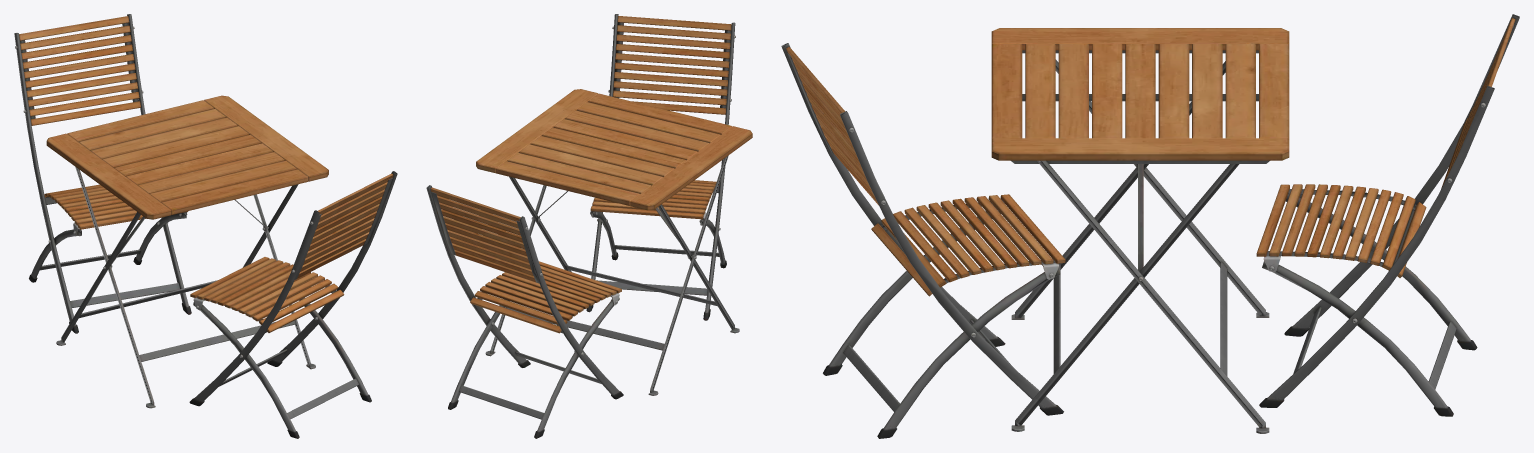
Rendered from cafe_set.glb.
3 views of the same model, side by side, from view 1: azimuth 30°, elevation 25°; view 2: azimuth 150°, elevation 25°; view 3: azimuth 270°, elevation 25° (orthographic). The views are drawn at different scales.
Parts seen in each view (by area): view 1: outdoor_table_chair_set_01_table, outdoor_table_chair_set_01_chair_02, outdoor_table_chair_set_01_chair_01; view 2: outdoor_table_chair_set_01_table, outdoor_table_chair_set_01_chair_02, outdoor_table_chair_set_01_chair_01; view 3: outdoor_table_chair_set_01_table, outdoor_table_chair_set_01_chair_01, outdoor_table_chair_set_01_chair_02.
Boxes of the visible parts, x1,y1,x2,y2 form: outdoor_table_chair_set_01_table: (46,95,328,408); outdoor_table_chair_set_01_chair_02: (14,14,191,333); outdoor_table_chair_set_01_chair_01: (189,171,397,438); outdoor_table_chair_set_01_table: (476,89,752,395); outdoor_table_chair_set_01_chair_02: (426,185,623,438); outdoor_table_chair_set_01_chair_01: (586,14,735,320); outdoor_table_chair_set_01_table: (991,28,1289,433); outdoor_table_chair_set_01_chair_01: (781,43,1065,438); outdoor_table_chair_set_01_chair_02: (1256,14,1519,416).
Size of the model in its own units: 0.7417 by 0.8579 by 1.72.
2 materials, 2 textured.
